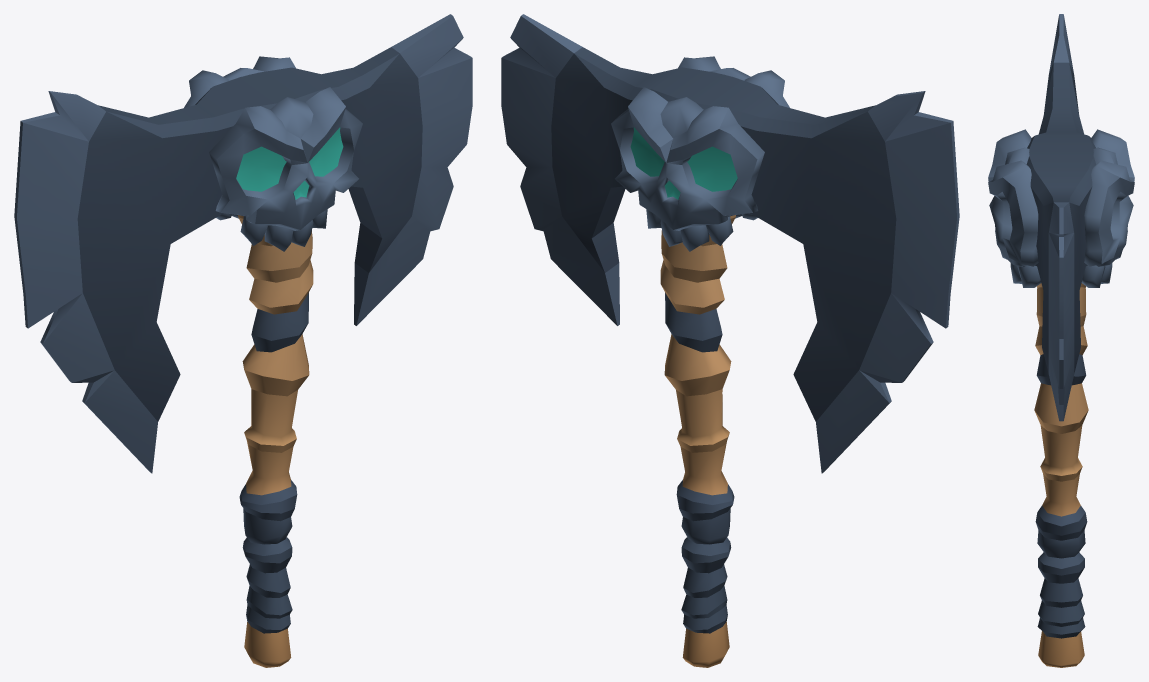
Rendered from Axe_3.fbx.
The picture shows the model from 3 angles, left to right: view 1: azimuth 30°, elevation 25°; view 2: azimuth 150°, elevation 25°; view 3: azimuth 270°, elevation 25°; orthographic projection. The views are drawn at different scales.
Parts seen in each view (by area): view 1: Axe_3; view 2: Axe_3; view 3: Axe_3.
Boxes of the visible parts, x1,y1,x2,y2 form: Axe_3: (14, 14, 472, 667); Axe_3: (501, 14, 959, 667); Axe_3: (988, 14, 1134, 667).
Size of the model in its own units: 77.27 by 101 by 24.19.
Materials: 3 (3 with a texture image).
